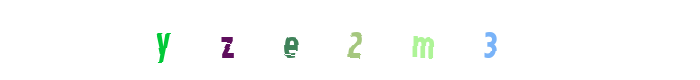2: (310, 0, 390, 80)
3: (429, 0, 509, 80)
E: (243, 0, 323, 80)
M: (338, 0, 418, 80)
Y: (122, 0, 202, 80)
Z: (187, 0, 267, 80)
